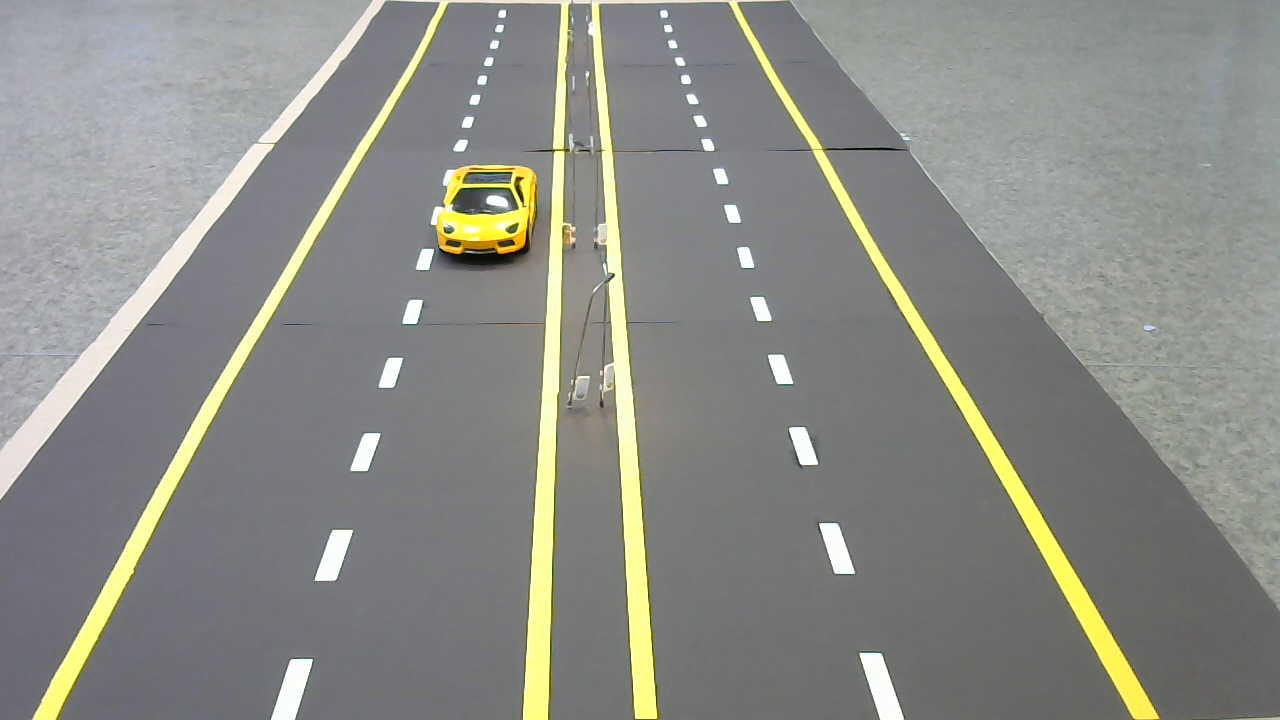front_car: (432, 162, 539, 264)
